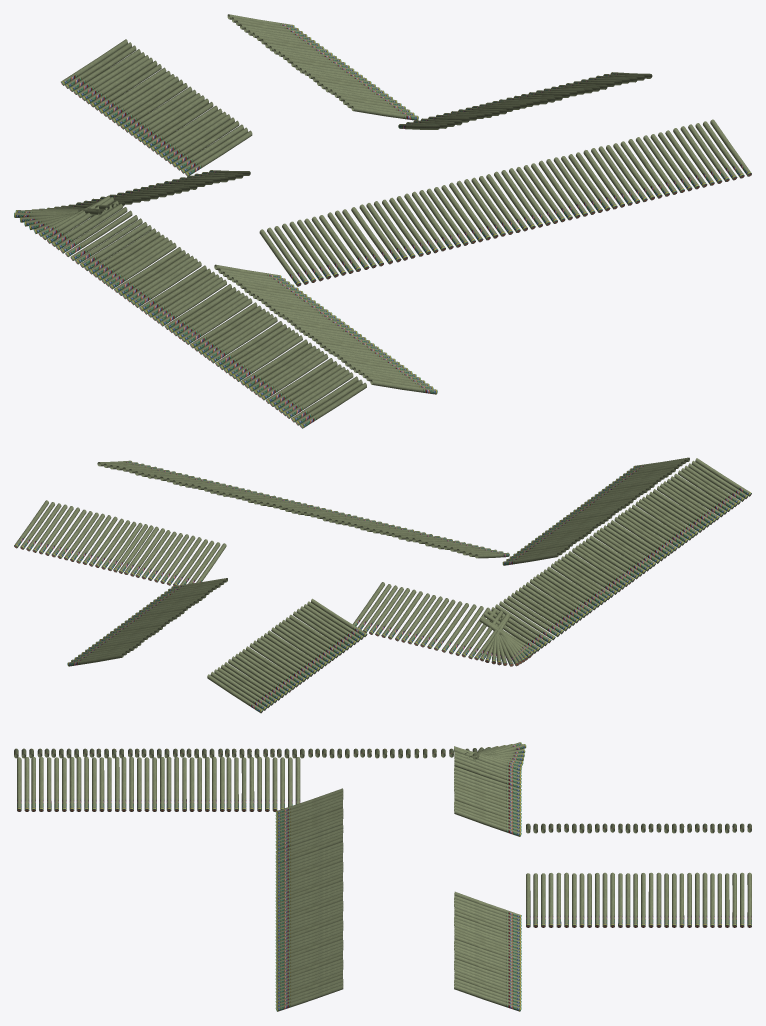
File: SM_Seokkalae05F.fbx
The picture shows the model from 3 angles, top to bottom: view 1: azimuth 30°, elevation 25°; view 2: azimuth 150°, elevation 25°; view 3: azimuth 270°, elevation 25°; orthographic projection. The views are drawn at different scales.
Visible parts, largest first — view 1: SM_Seokkalae05F; view 2: SM_Seokkalae05F; view 3: SM_Seokkalae05F.
Boxes of the visible parts, bbox=[...] form: SM_Seokkalae05F: bbox=[14, 14, 751, 428]; SM_Seokkalae05F: bbox=[14, 457, 751, 713]; SM_Seokkalae05F: bbox=[14, 742, 751, 1011].
Size of the model in its own units: 2229 by 2653 by 110.
